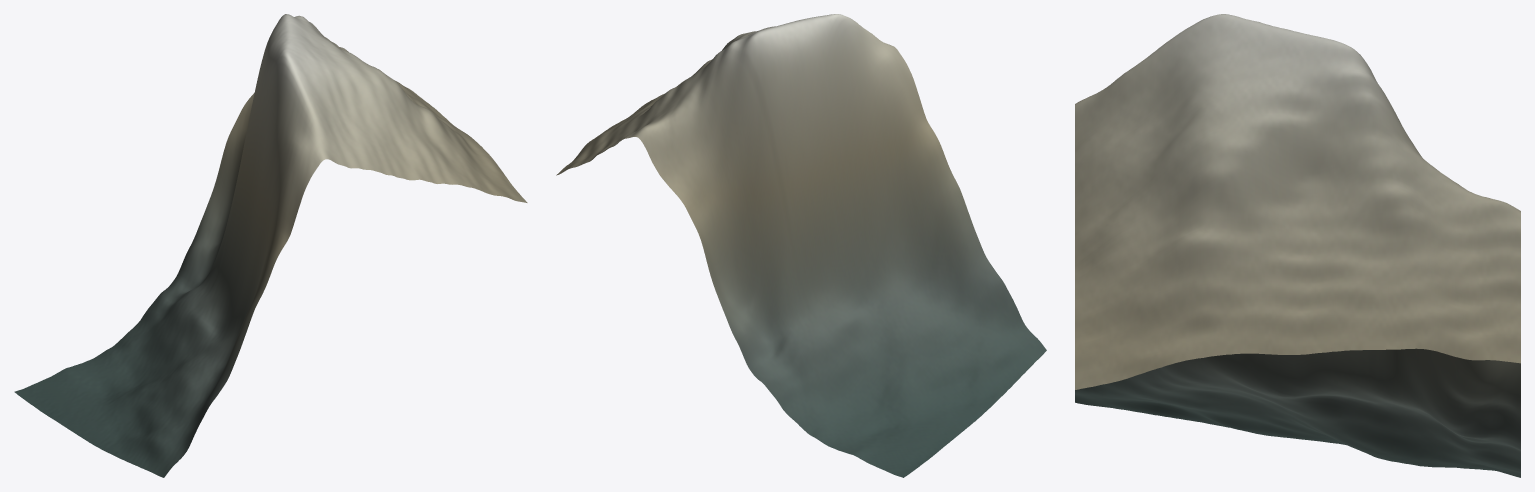
Rendered from terrain3d2-mount-thor.glb.
3 renders of one model, left to right at view 1: azimuth 30°, elevation 25°; view 2: azimuth 150°, elevation 25°; view 3: azimuth 270°, elevation 25°, orthographic. The views are drawn at different scales.
Visible parts, largest first — view 1: Recorded terrain elevations; view 2: Recorded terrain elevations; view 3: Recorded terrain elevations.
Part boxes in pixels (x1=…): Recorded terrain elevations: x1=14, y1=14, x2=527, y2=477; Recorded terrain elevations: x1=556, y1=14, x2=1046, y2=477; Recorded terrain elevations: x1=1075, y1=14, x2=1520, y2=477.
Size of the model in its own units: 1400 by 1362 by 1000.
1 material, 1 textured.
